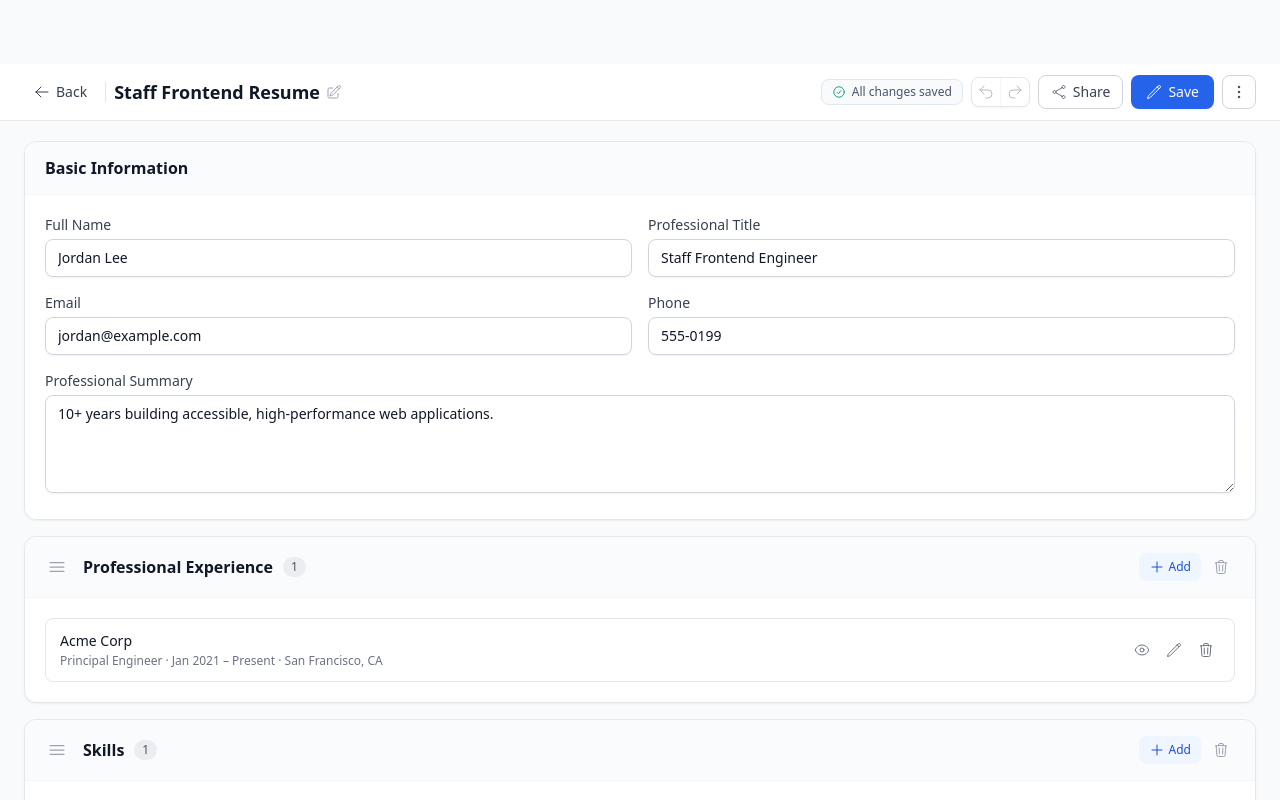
Test: ResumeEditor light theme, layout, and bindings › renders resume title as an inline-editable heading and collapses secondary actions into an overflow menu
Expected: the heading "Staff Frontend Resume" is shown, [114, 78, 320, 106]
Note: Click heading to edit inline
Click the button with test id "resume-title-heading" at [228, 92], box [108, 74, 348, 110]
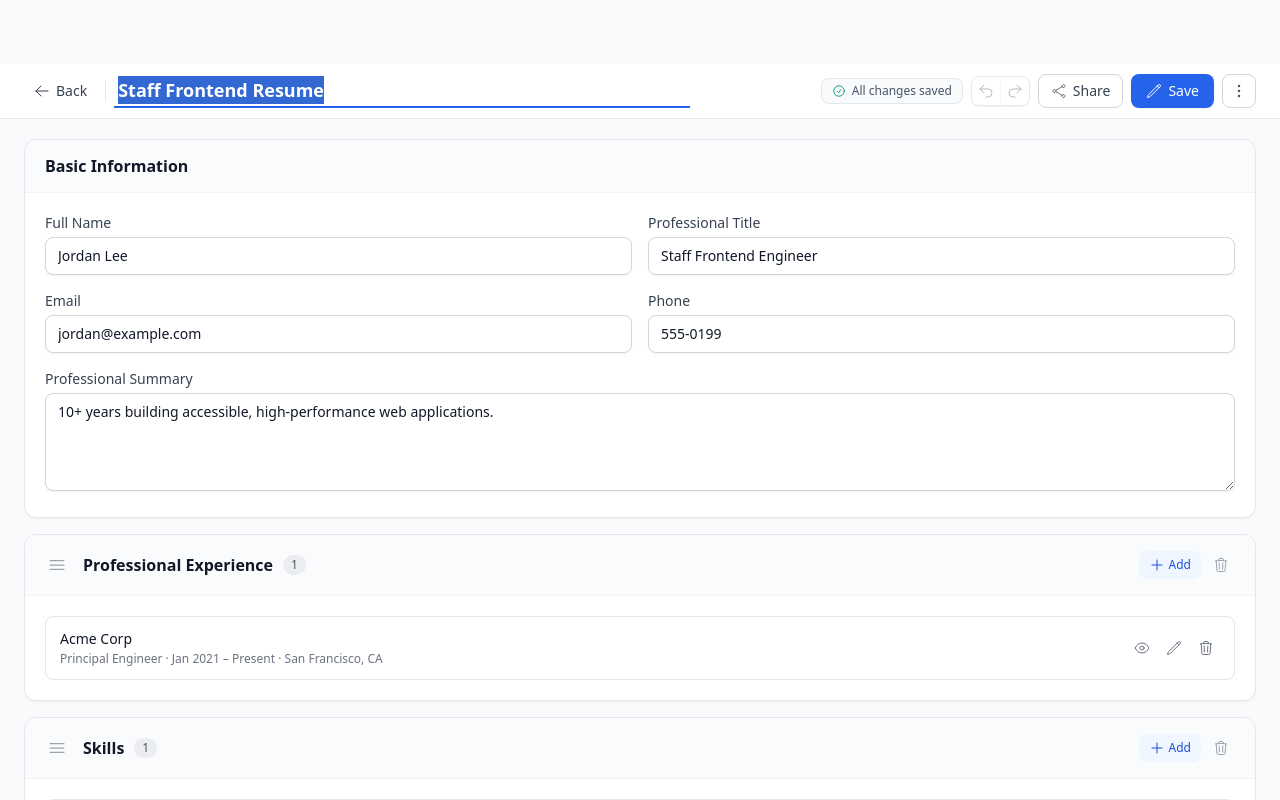
Now the field named "Resume Title" holds "Staff Frontend Resume"
Replace the text in the field named "Resume Title" with "Principal UI Resume" at [402, 91], box [114, 74, 690, 108]
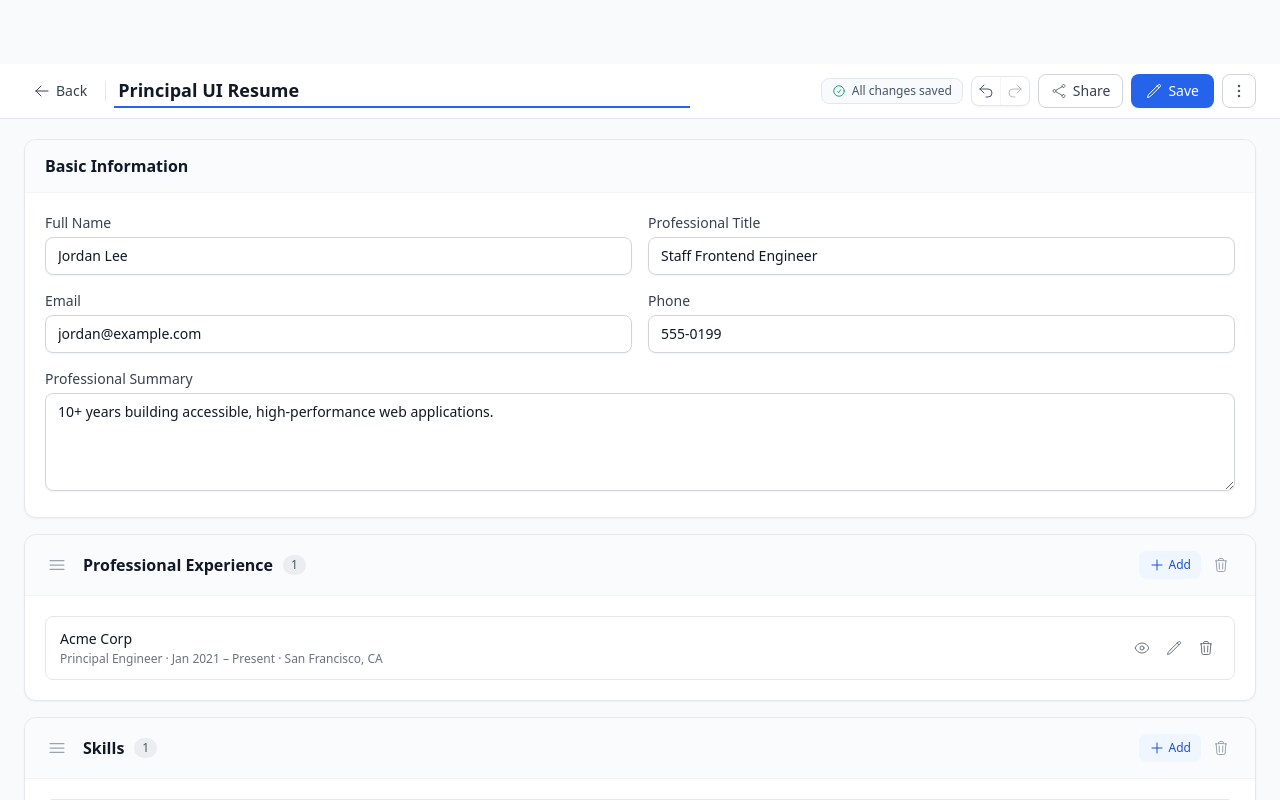
Press Enter in the field named "Resume Title", box [114, 74, 690, 108]
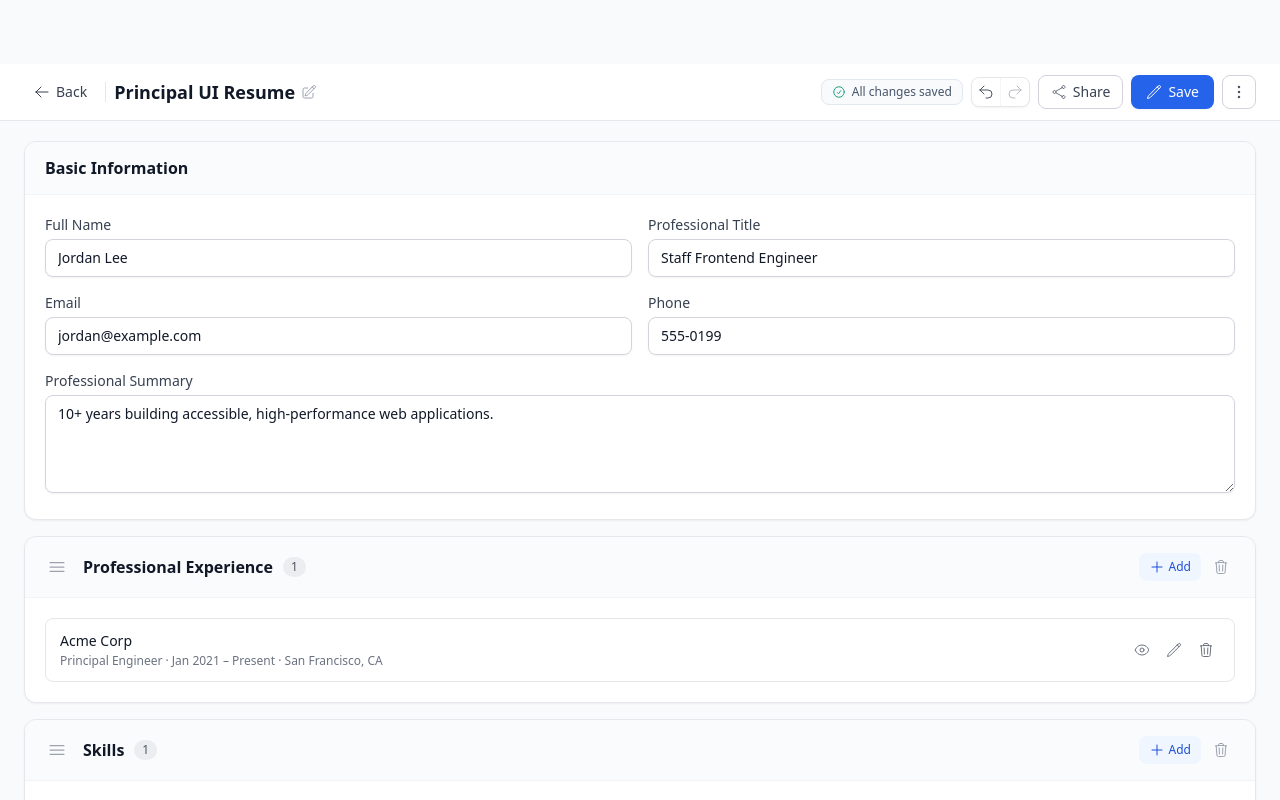
Expected: the button with test id "share-resume-btn-1" is shown, [1038, 75, 1123, 109]
Now the heading "Principal UI Resume" is shown, box [114, 78, 295, 106]
Click the button with test id "toolbar-overflow-btn" at [1239, 92], box [1222, 75, 1256, 109]
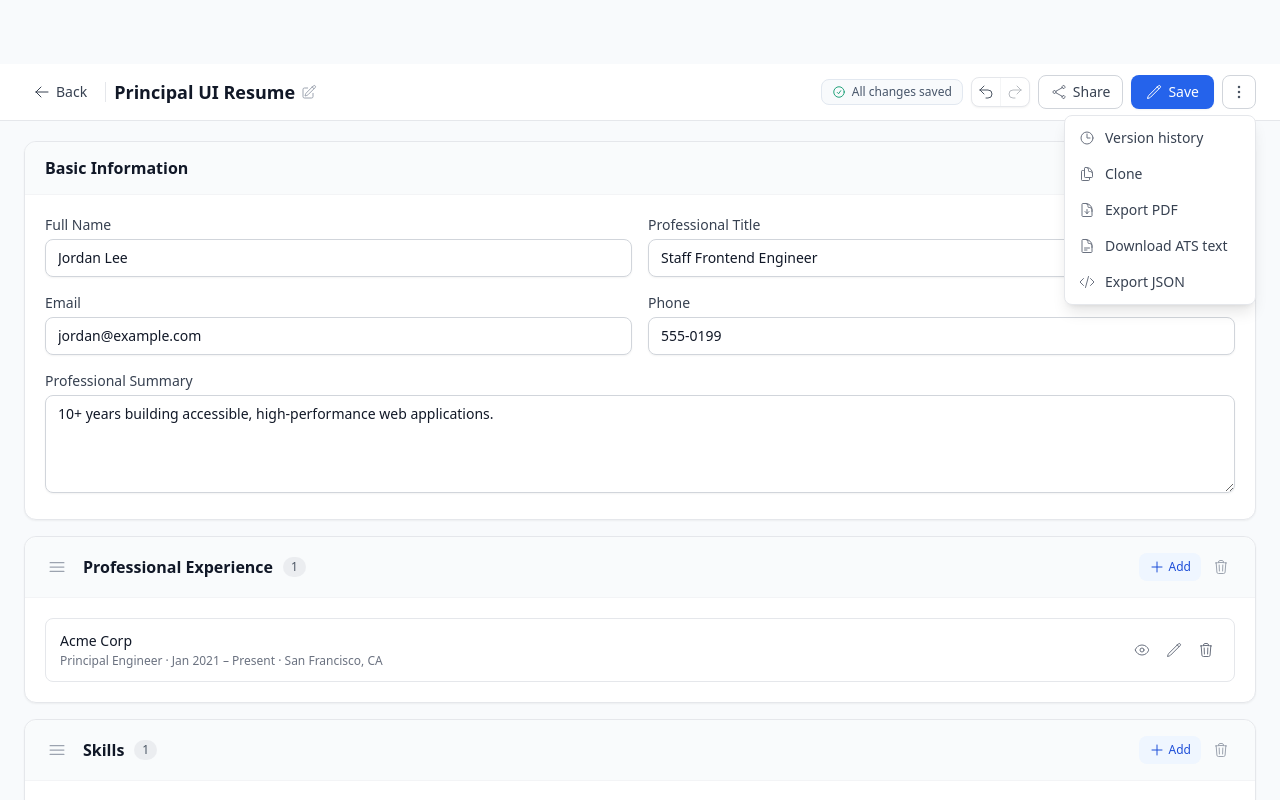
Now the menu item "Clone" is shown, box [1065, 156, 1255, 192]
Now the menu item "Export PDF" is shown, box [1065, 192, 1255, 228]
Now the menu item "Export JSON" is shown, box [1065, 264, 1255, 300]
